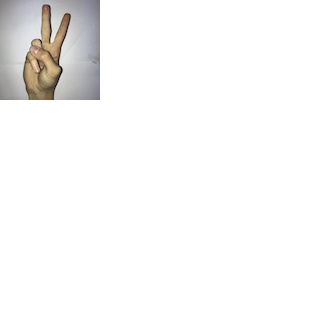scissors: (17, 2, 71, 93)
